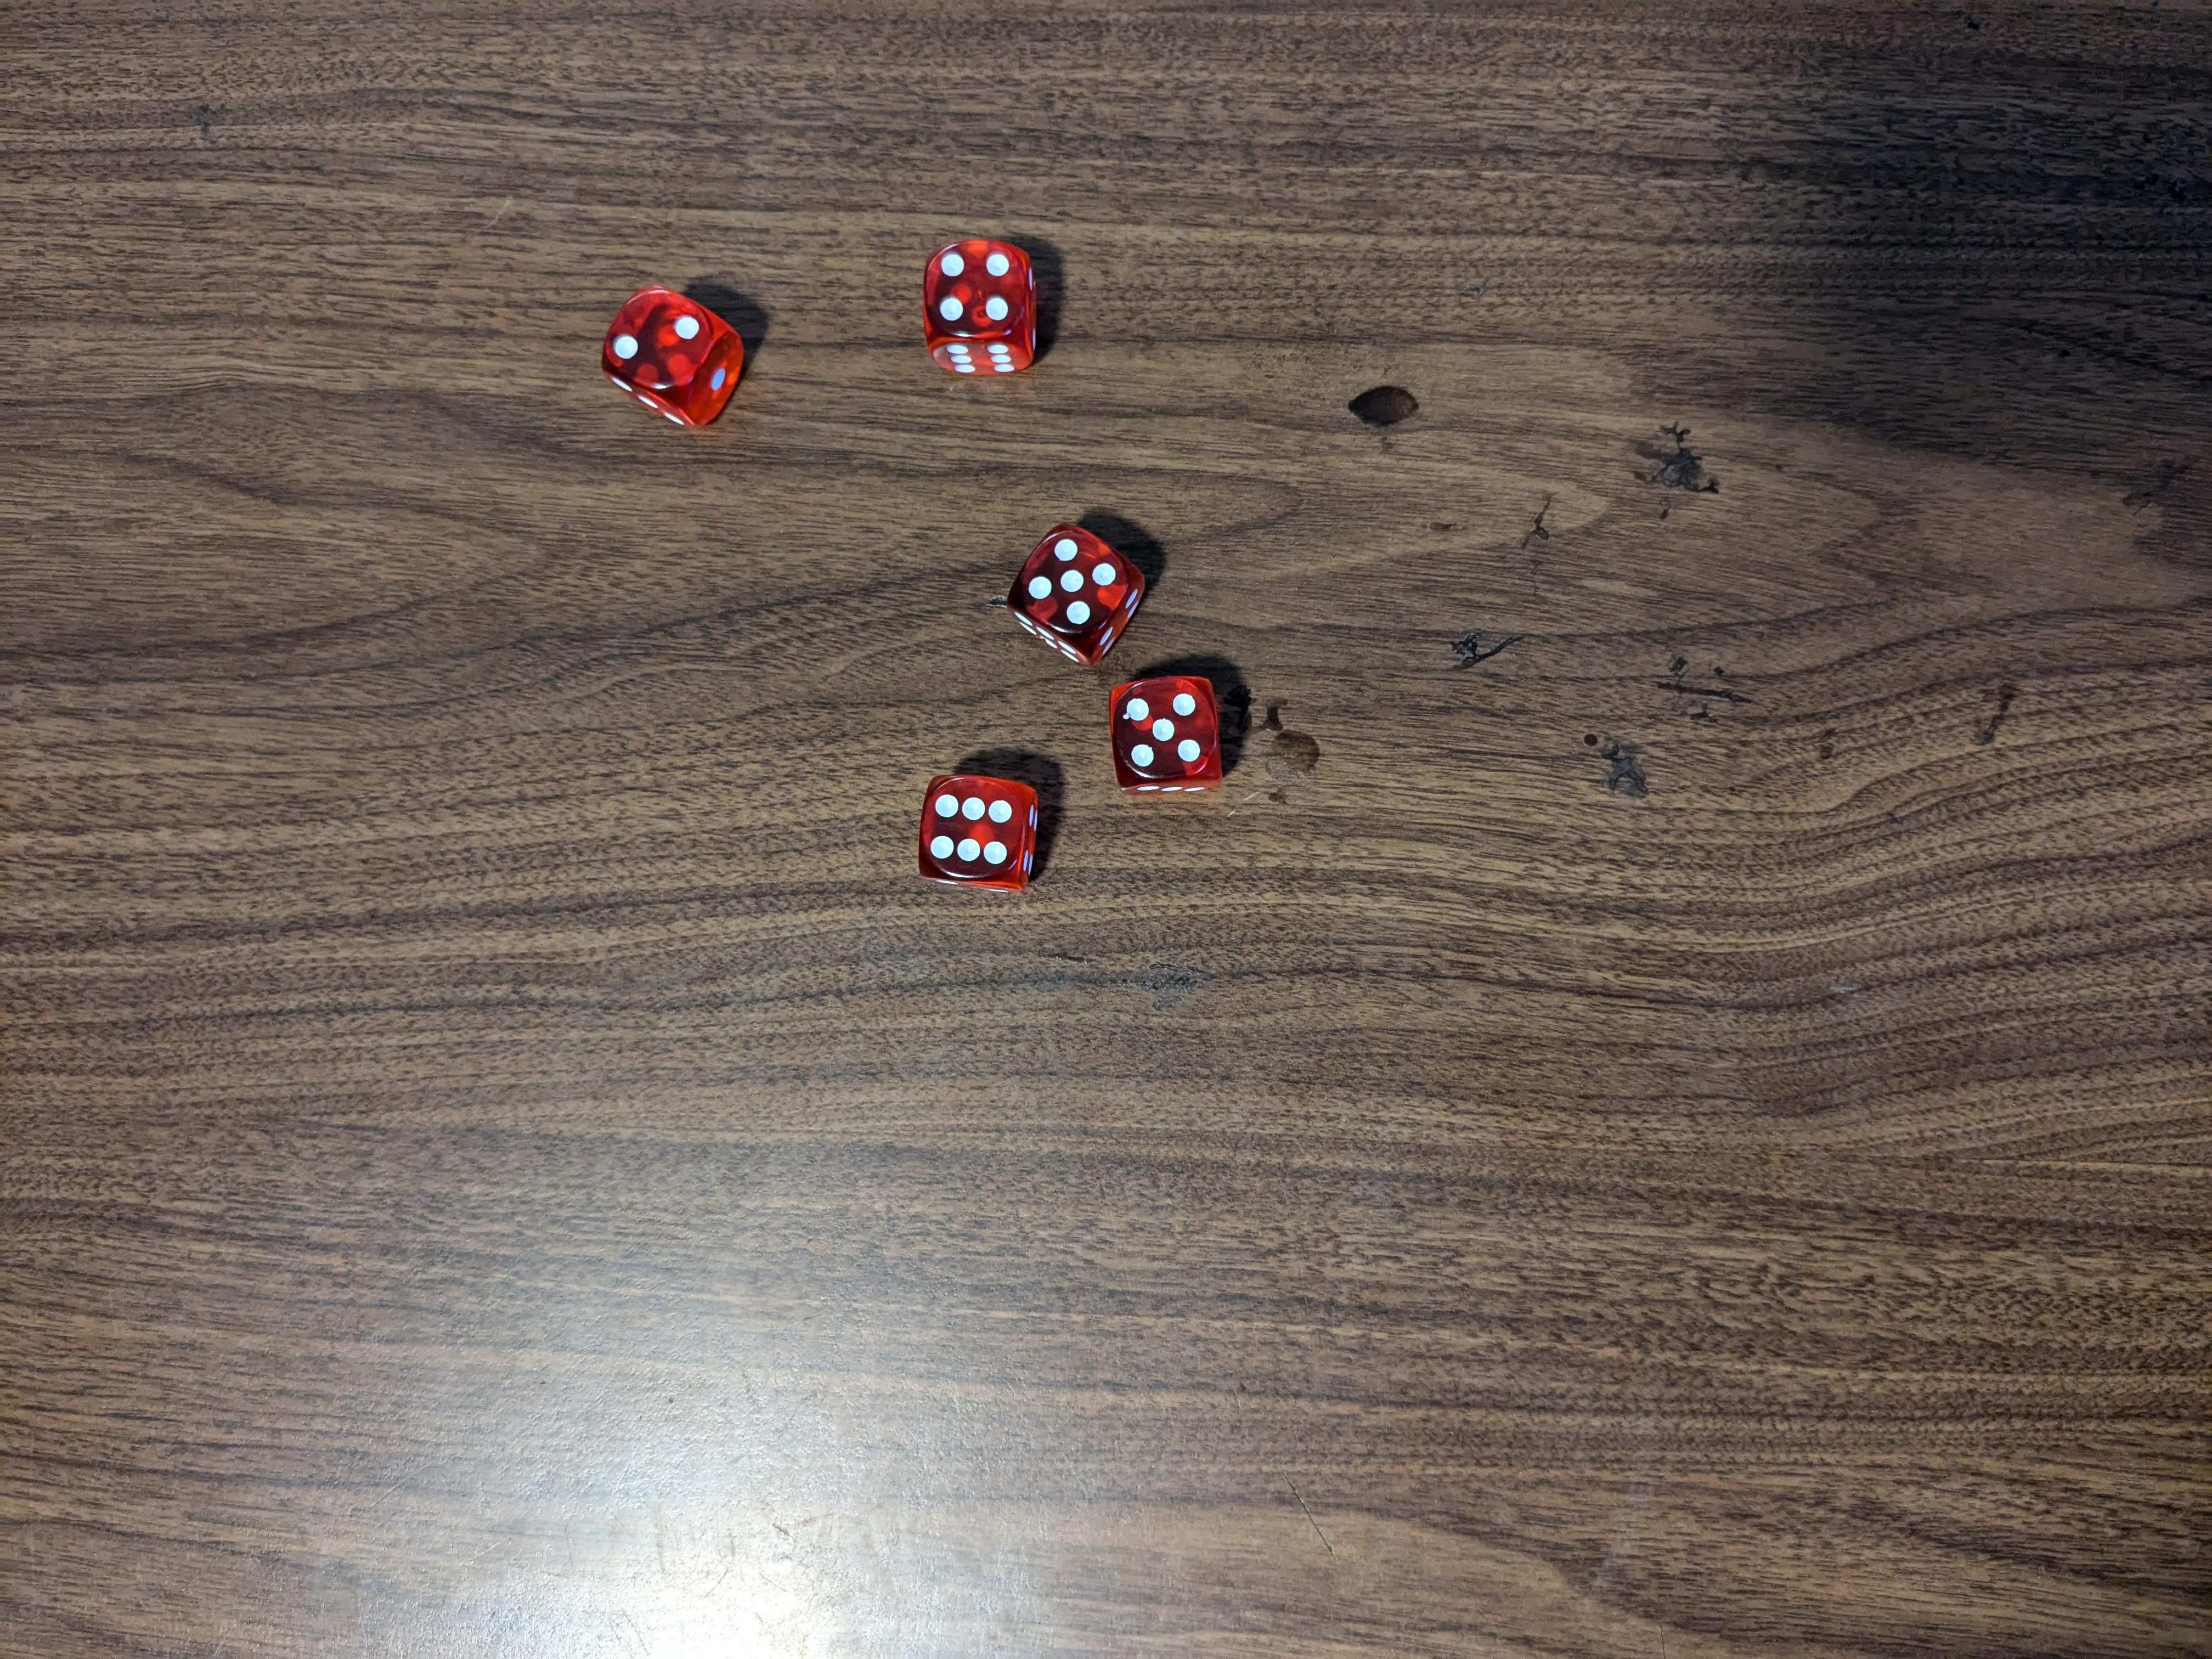five: (1005, 521, 1144, 664), (1104, 669, 1235, 805)
four: (925, 235, 1047, 380)
six: (916, 772, 1050, 903)
two: (599, 288, 742, 420)
